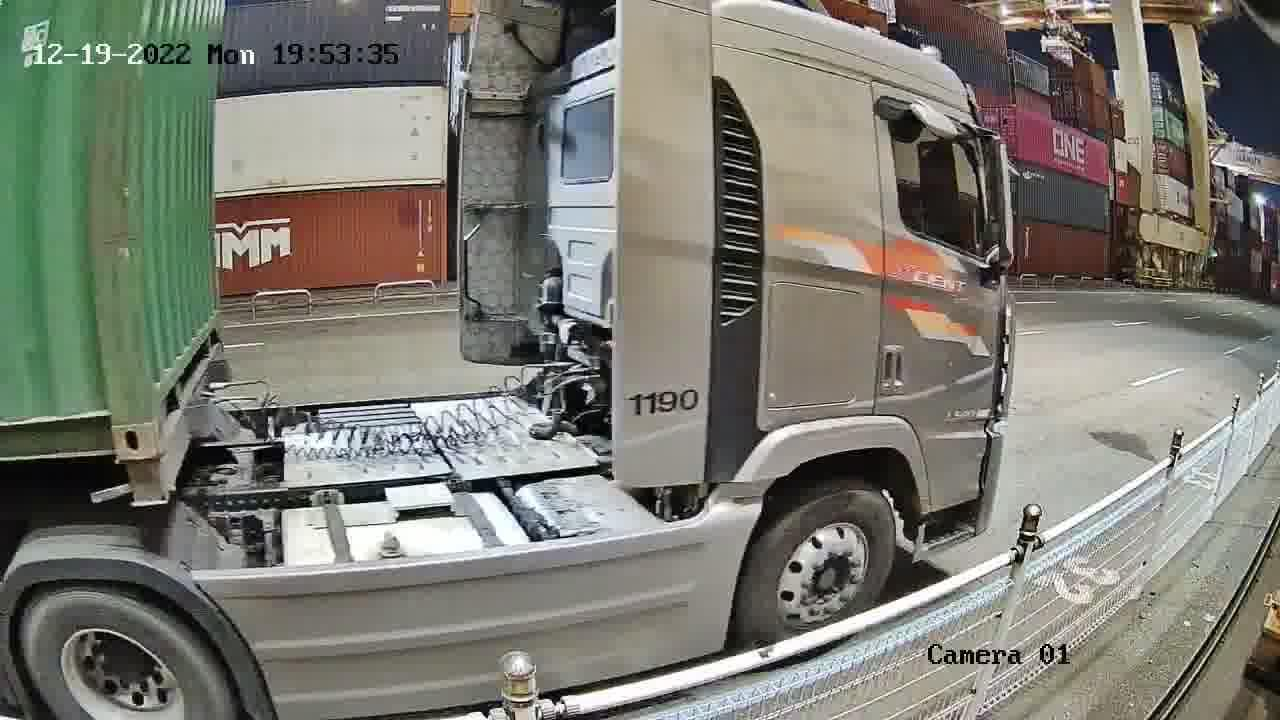Chassis: (126, 346, 226, 501)
Cone: (114, 459, 167, 503)
Hole_R: (66, 387, 159, 463)
Tire: (24, 588, 222, 714)
